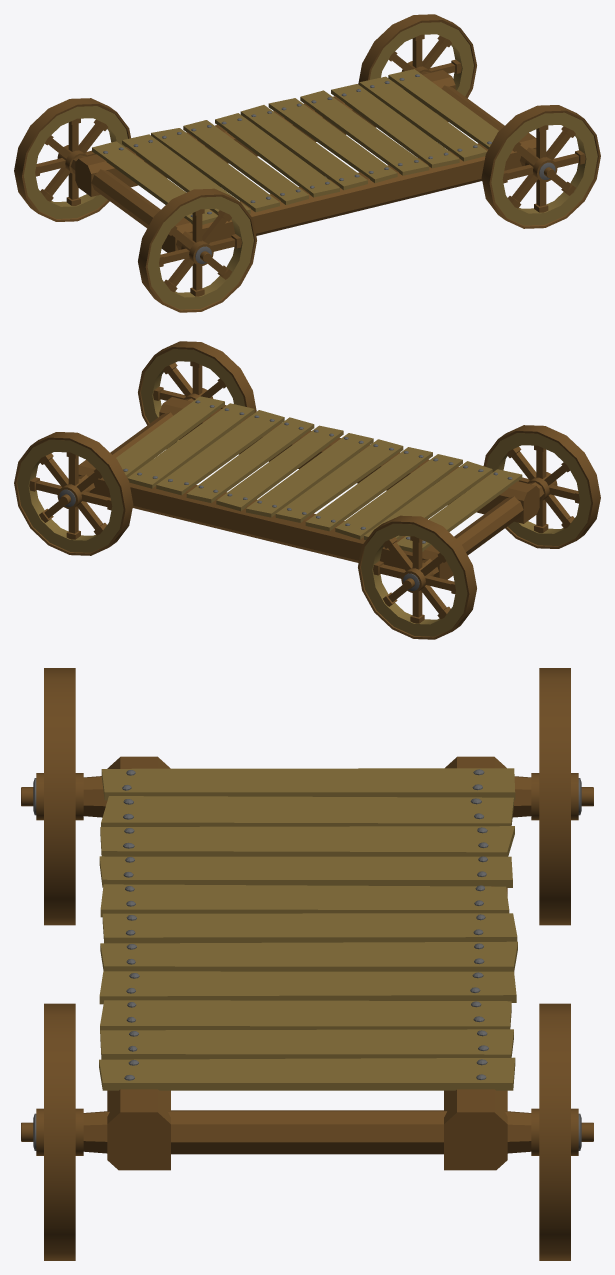
Rendered from Wagon.gltf.
3 renders of one model, top to bottom at view 1: azimuth 30°, elevation 25°; view 2: azimuth 150°, elevation 25°; view 3: azimuth 270°, elevation 25°, orthographic. The views are drawn at different scales.
Parts seen in each view (by area): view 1: Planks, Wheel.004, Wheel.003, Bars, Wheel.002, Wheel.001, WheelBars; view 2: Planks, Wheel.001, Wheel.002, Bars, Wheel.003, Wheel.004, WheelBars; view 3: Planks, WheelBars, Bars, Wheel.004, Wheel.001, Wheel.002, Wheel.003.
Part boxes in pixels (x1=…): Planks: x1=92, y1=69, x2=498, y2=224; Wheel.004: x1=481, y1=105, x2=600, y2=228; Wheel.003: x1=138, y1=188, x2=256, y2=312; Bars: x1=75, y1=70, x2=536, y2=252; Wheel.002: x1=14, y1=98, x2=130, y2=221; Wheel.001: x1=358, y1=14, x2=476, y2=122; WheelBars: x1=70, y1=71, x2=536, y2=250; Planks: x1=116, y1=396, x2=522, y2=552; Wheel.001: x1=14, y1=432, x2=133, y2=555; Wheel.002: x1=358, y1=515, x2=476, y2=639; Bars: x1=78, y1=397, x2=539, y2=579; Wheel.003: x1=483, y1=425, x2=600, y2=548; Wheel.004: x1=138, y1=341, x2=256, y2=449; WheelBars: x1=78, y1=398, x2=544, y2=577; Planks: x1=99, y1=768, x2=517, y2=1090; WheelBars: x1=83, y1=776, x2=531, y2=1154; Bars: x1=107, y1=756, x2=507, y2=1170; Wheel.004: x1=21, y1=1003, x2=83, y2=1260; Wheel.001: x1=531, y1=1003, x2=593, y2=1260; Wheel.002: x1=531, y1=668, x2=593, y2=925; Wheel.003: x1=21, y1=668, x2=83, y2=925.
Bounding box in the file's own units: 8.54 × 2.09 × 4.65.
